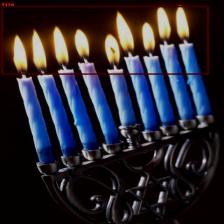fire: (1, 6, 208, 74)
